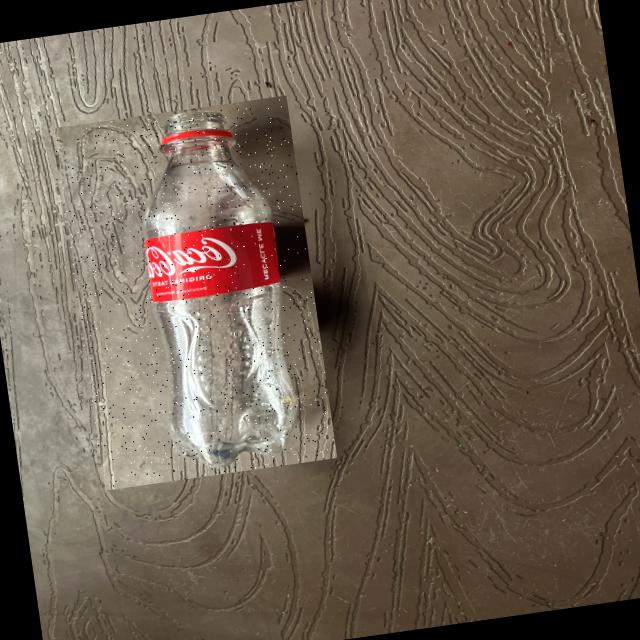REJECT: (51, 95, 336, 490)
